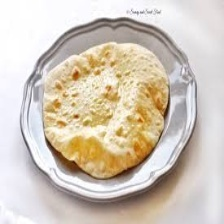roti: (38, 38, 172, 179)
